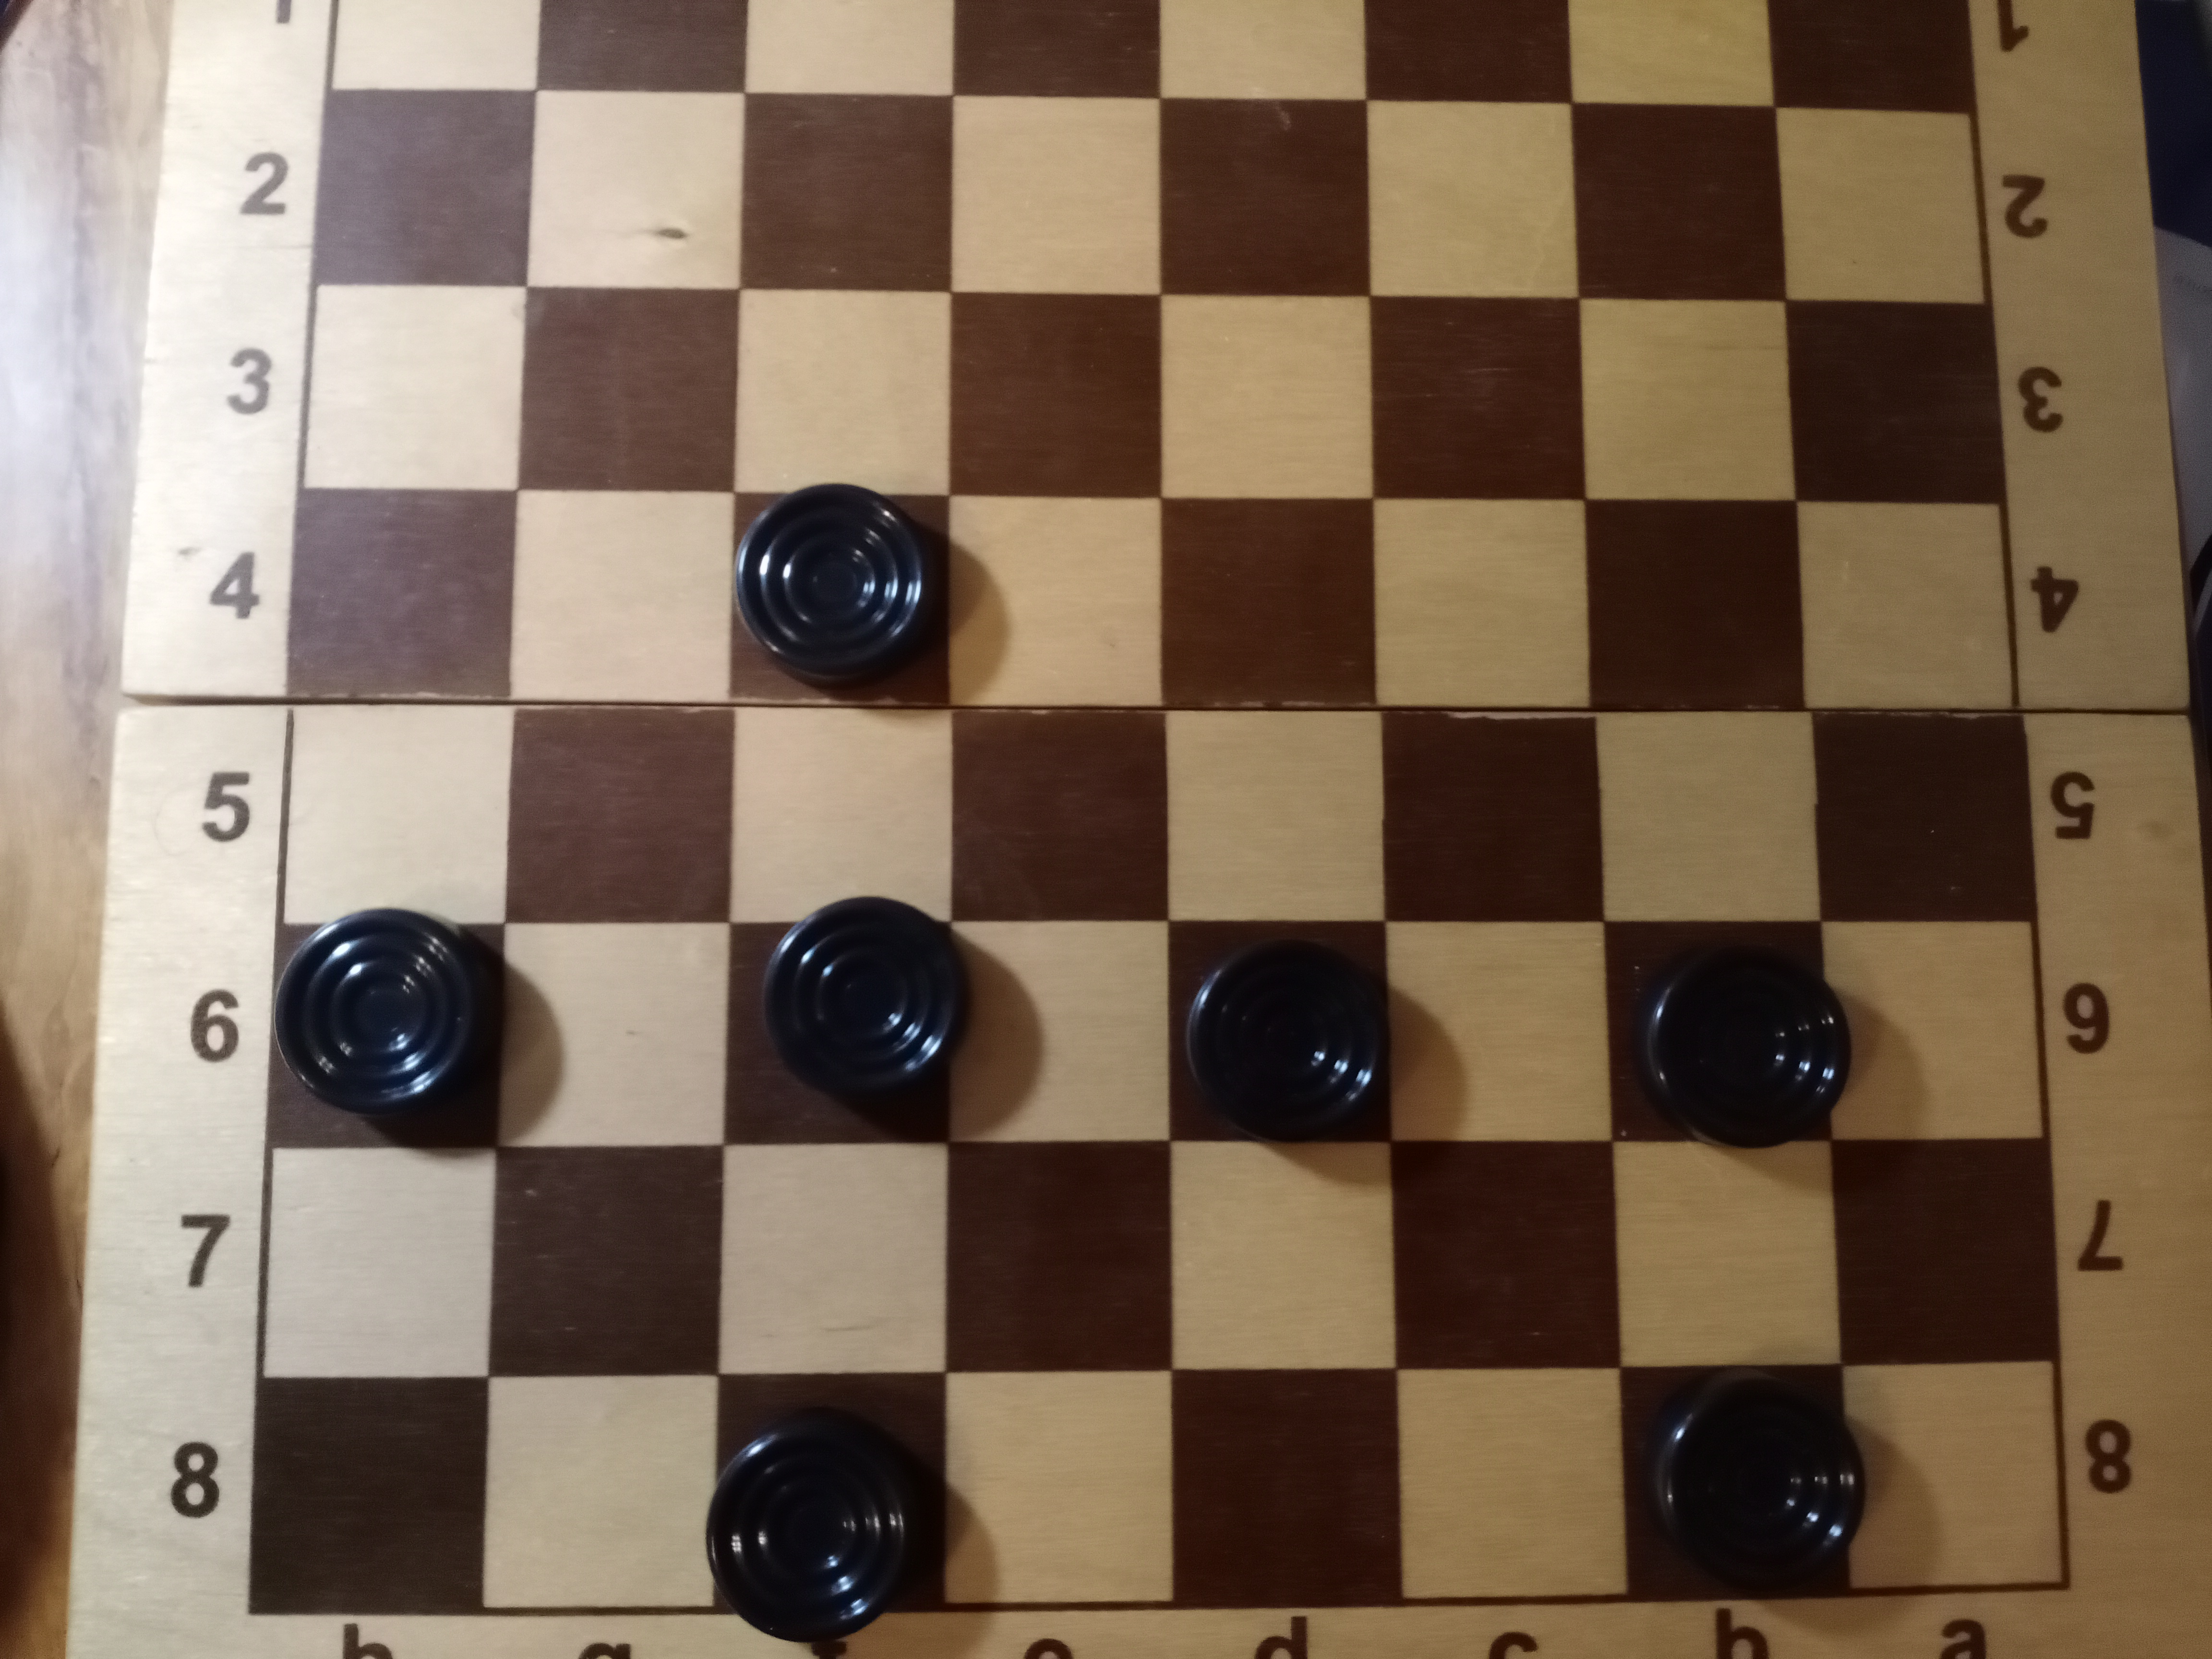Black_Draught: (705, 1371, 949, 1642), (721, 897, 968, 1148), (1618, 1364, 1867, 1603), (265, 908, 503, 1152), (1602, 920, 1853, 1150), (1165, 922, 1390, 1147), (732, 483, 949, 708)
